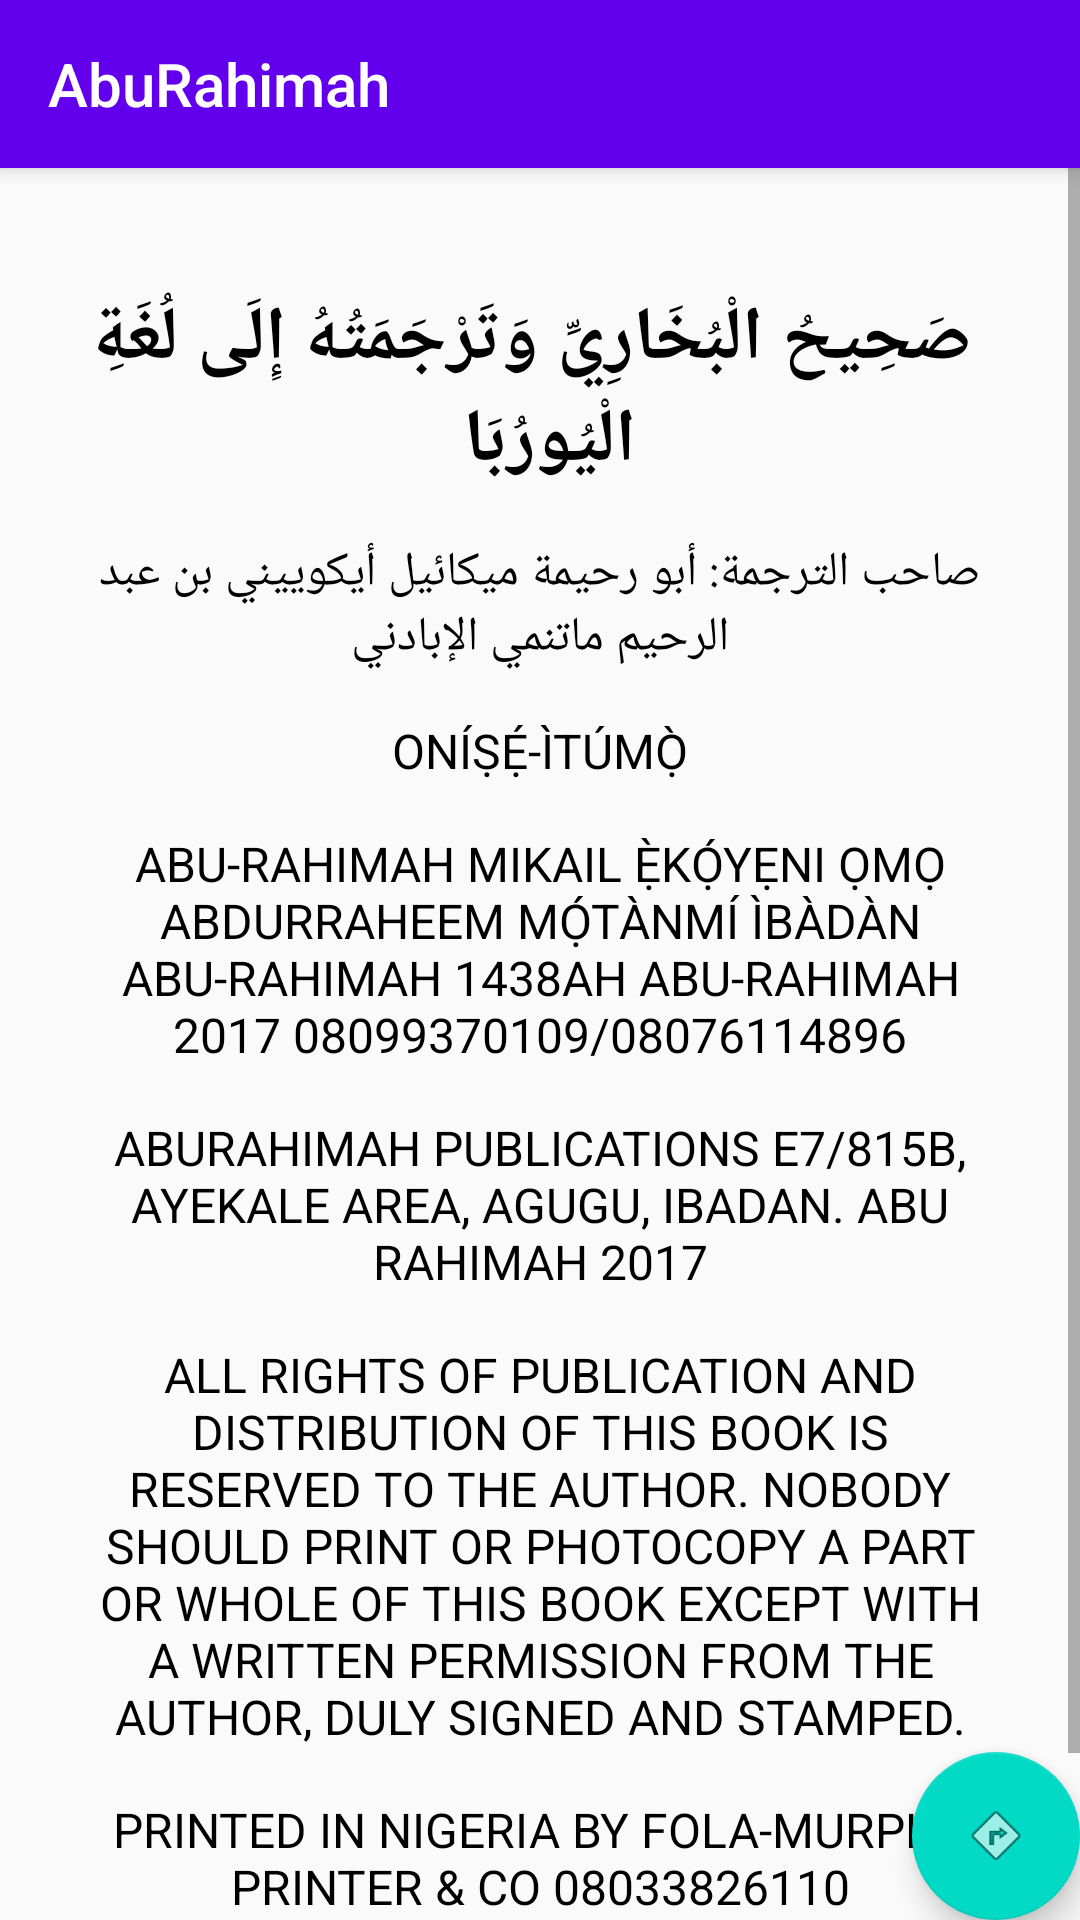

Icons on this 1080*1920 Android screen, each with its box as (x1, y1, x2, y2):
directions: (912, 1752, 1080, 1920)
